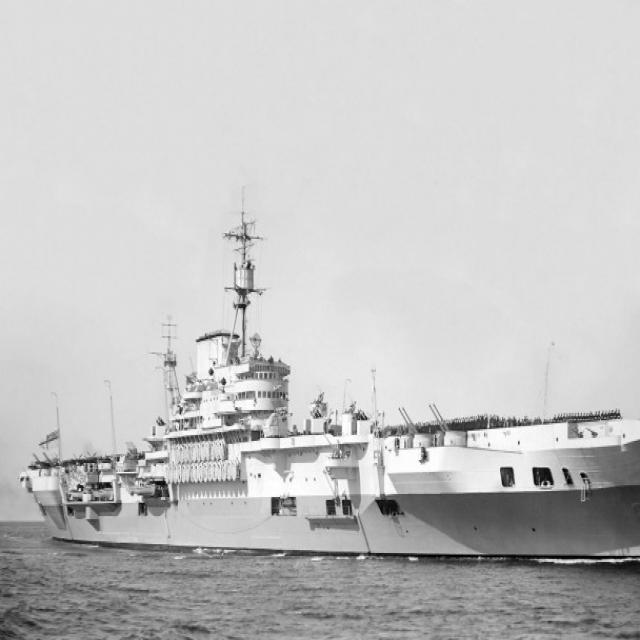Portanaves: (13, 189, 640, 571)
